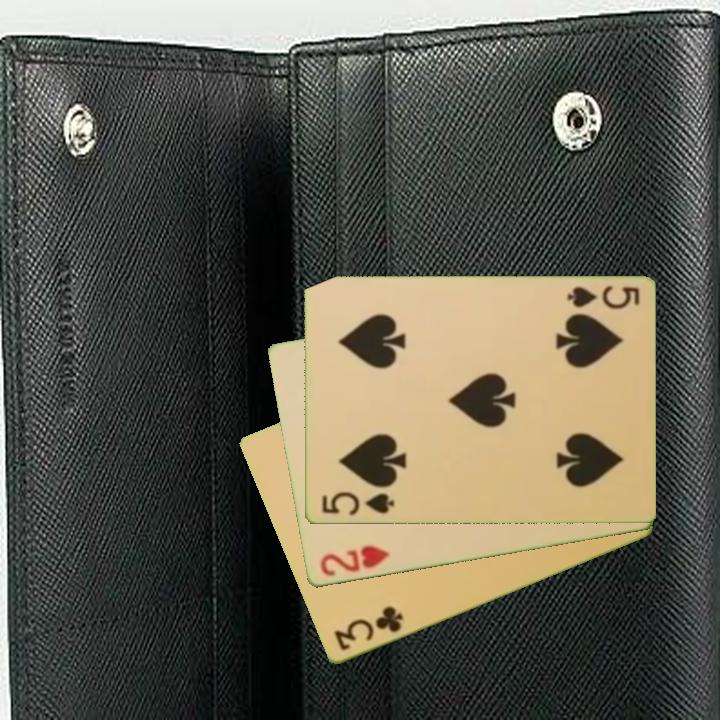2h: (316, 542, 392, 580)
3c: (330, 603, 406, 655)
5s: (318, 488, 397, 518), (563, 282, 641, 312)
